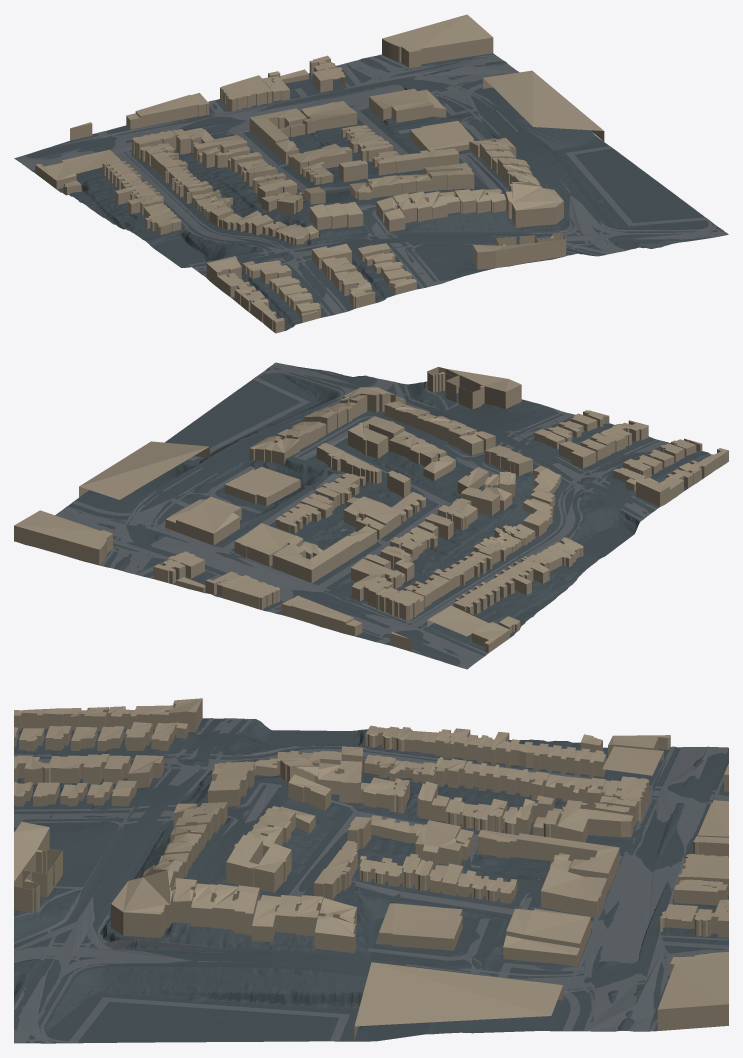
File: epsg26910-1428-10890.lod0.glb
3 renders of one model, top to bottom at view 1: azimuth 30°, elevation 25°; view 2: azimuth 150°, elevation 25°; view 3: azimuth 270°, elevation 25°, orthographic. The views are drawn at different scales.
Parts seen in each view (by area): view 1: epsg26910-1428-10890-lod0; view 2: epsg26910-1428-10890-lod0; view 3: epsg26910-1428-10890-lod0.
Boxes of the visible parts, left/top/right/bottom form: epsg26910-1428-10890-lod0: left=14, top=14, right=728, bottom=333; epsg26910-1428-10890-lod0: left=14, top=362, right=728, bottom=669; epsg26910-1428-10890-lod0: left=14, top=698, right=728, bottom=1043.
Bounding box in the file's own units: 384 × 43.52 × 384.
